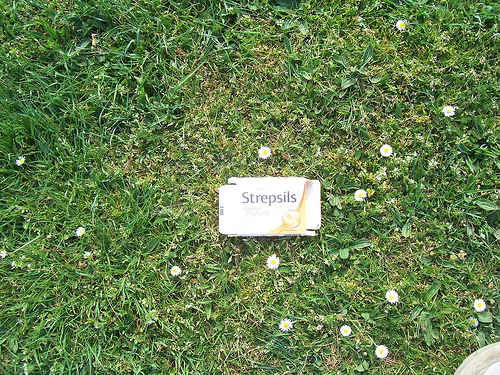litter: (216, 175, 324, 239)
